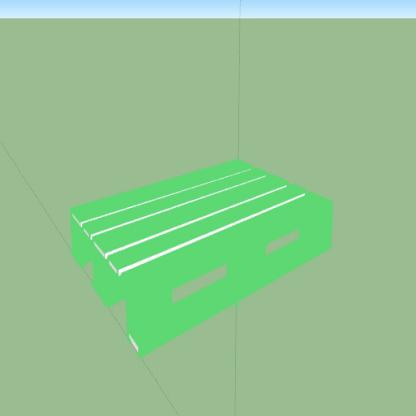BoxFace: (67, 156, 335, 366)
